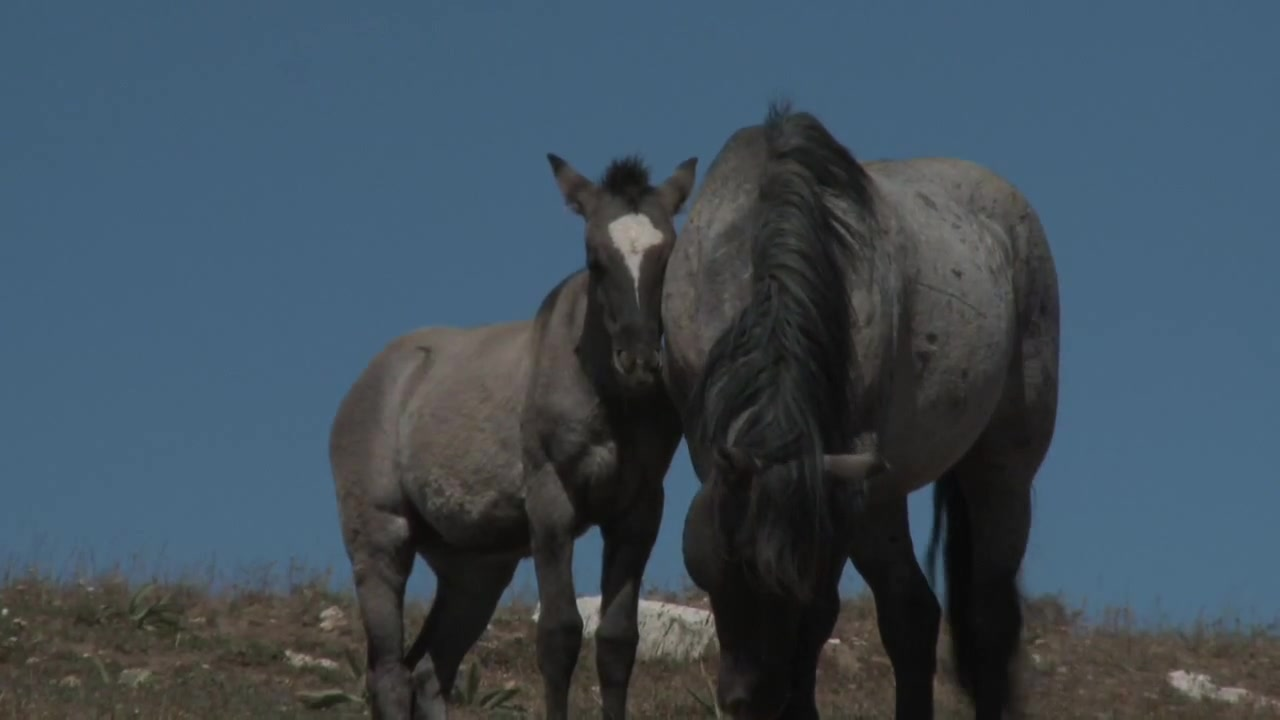horse: (657, 103, 1065, 720), (329, 153, 701, 718)
